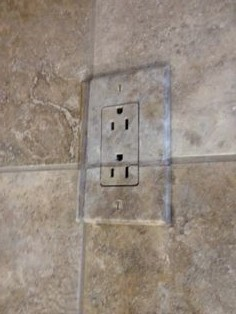outlet: (103, 150, 133, 182), (104, 105, 134, 133)
